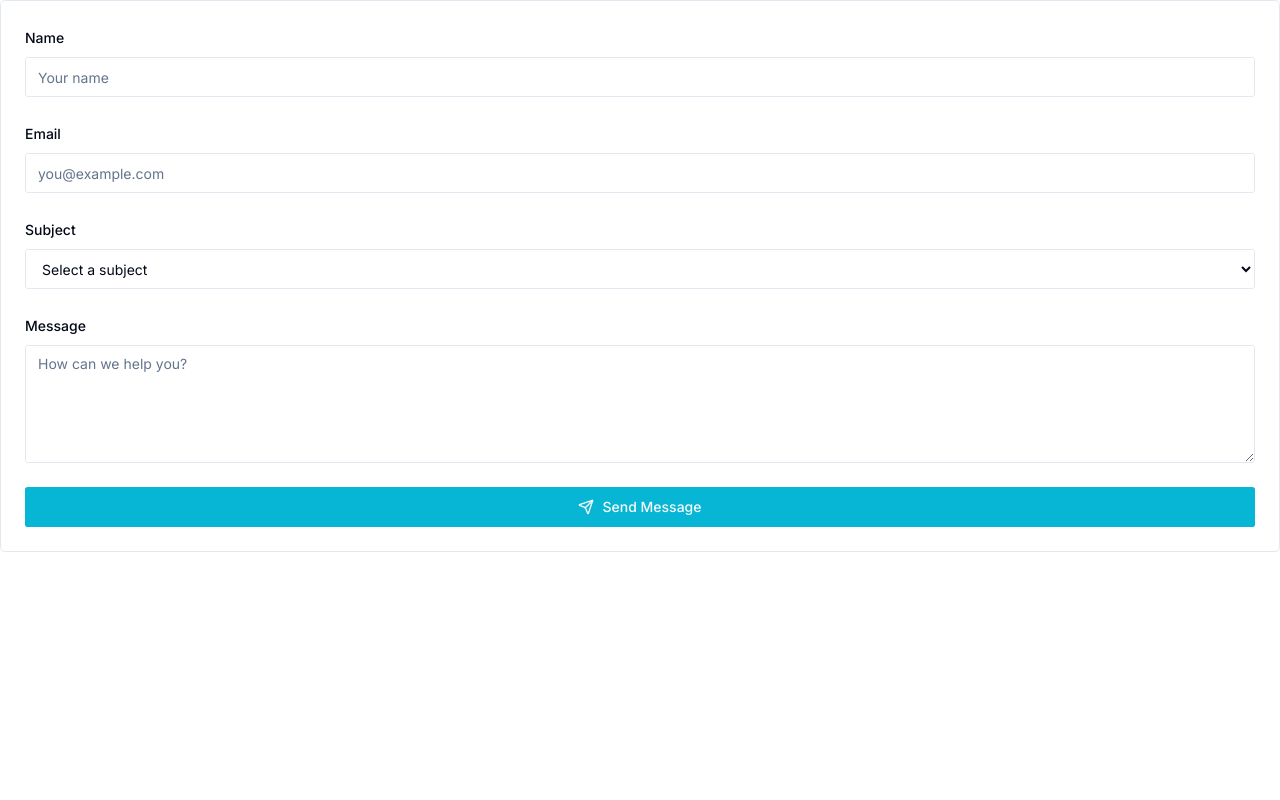
it: ContactForm › creates a support ticket instead of opening a mailto draft
Step 1. Type "Ava Customer" into the field labelled "Name" → [640, 77], box x1=25 y1=57 x2=1255 y2=97
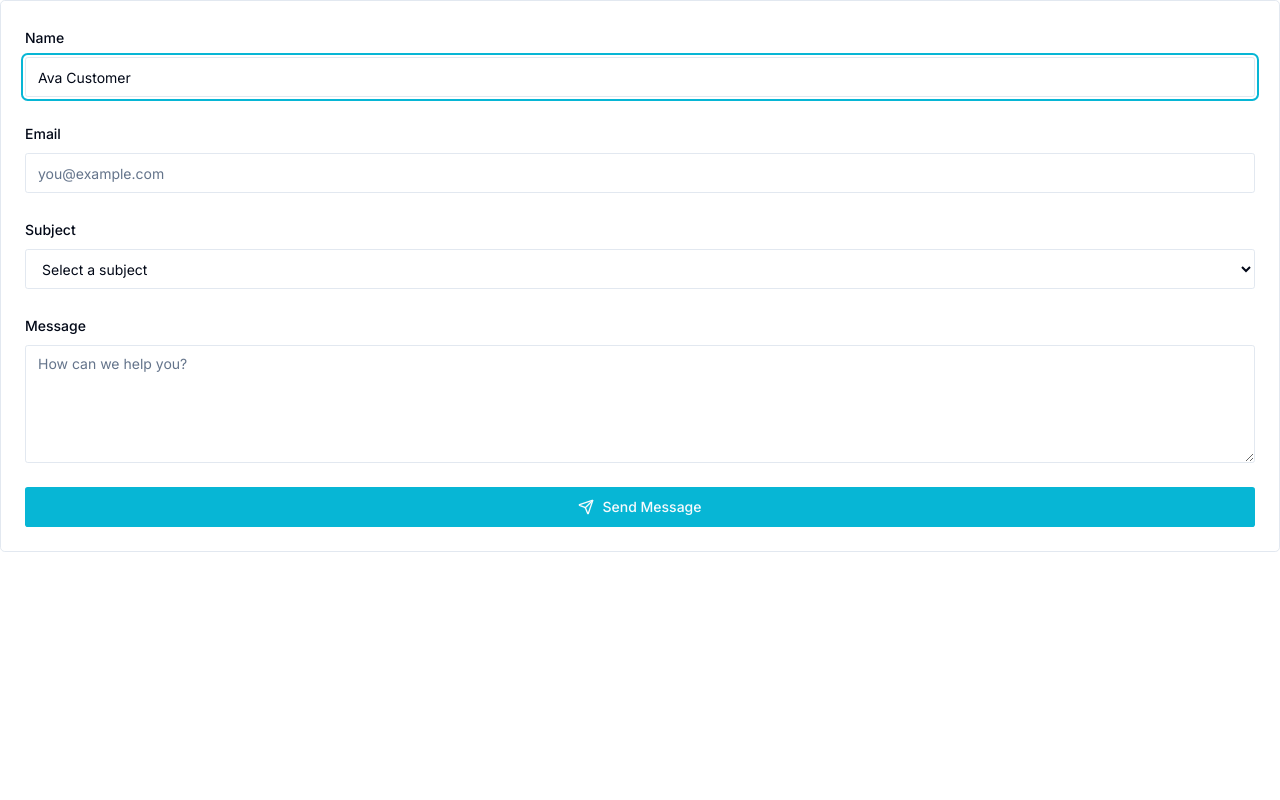
Step 2. Type "ava@example.com" into the field labelled "Email" → [640, 173], box x1=25 y1=153 x2=1255 y2=193
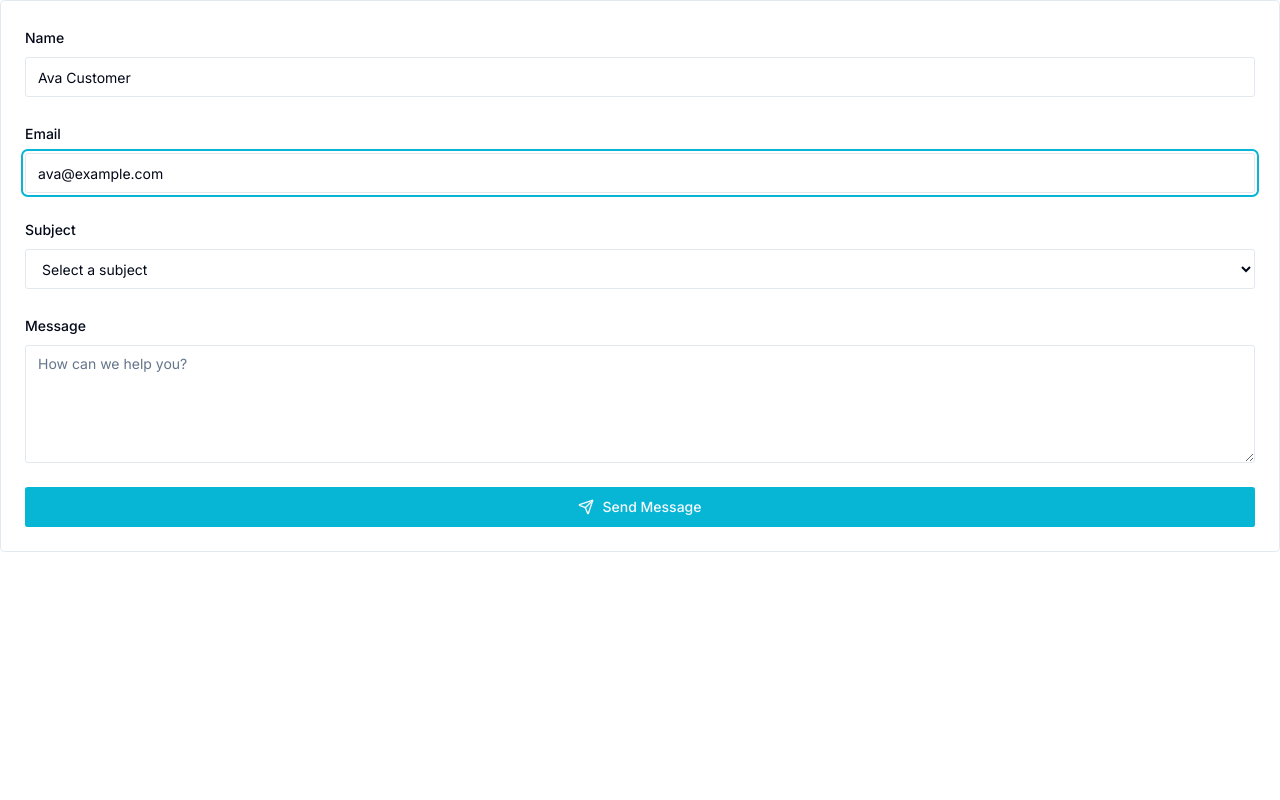
Step 3. Select "Order Status" in the dropdown labelled "Subject" → [640, 269], box x1=25 y1=249 x2=1255 y2=289
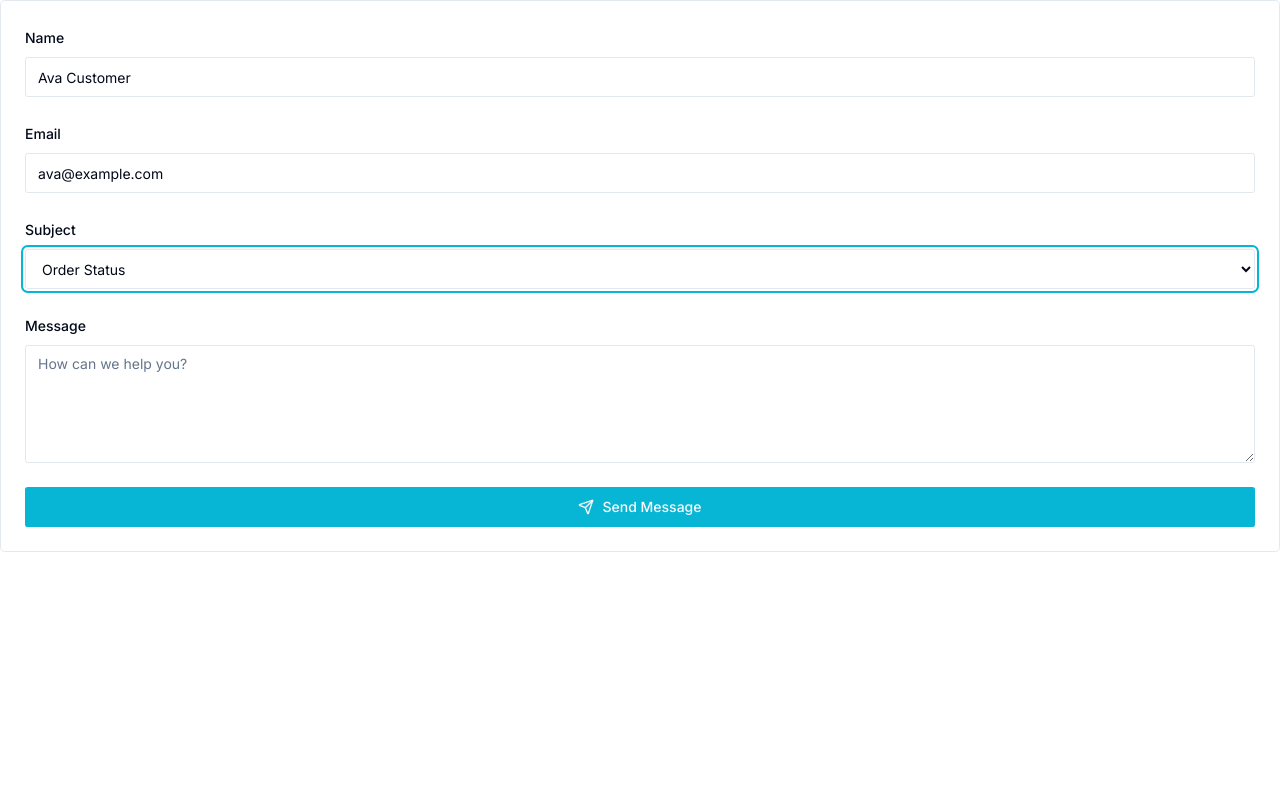
Step 4. Type "Can you check this order?" into the text box labelled "Message" → [640, 404], box x1=25 y1=345 x2=1255 y2=463
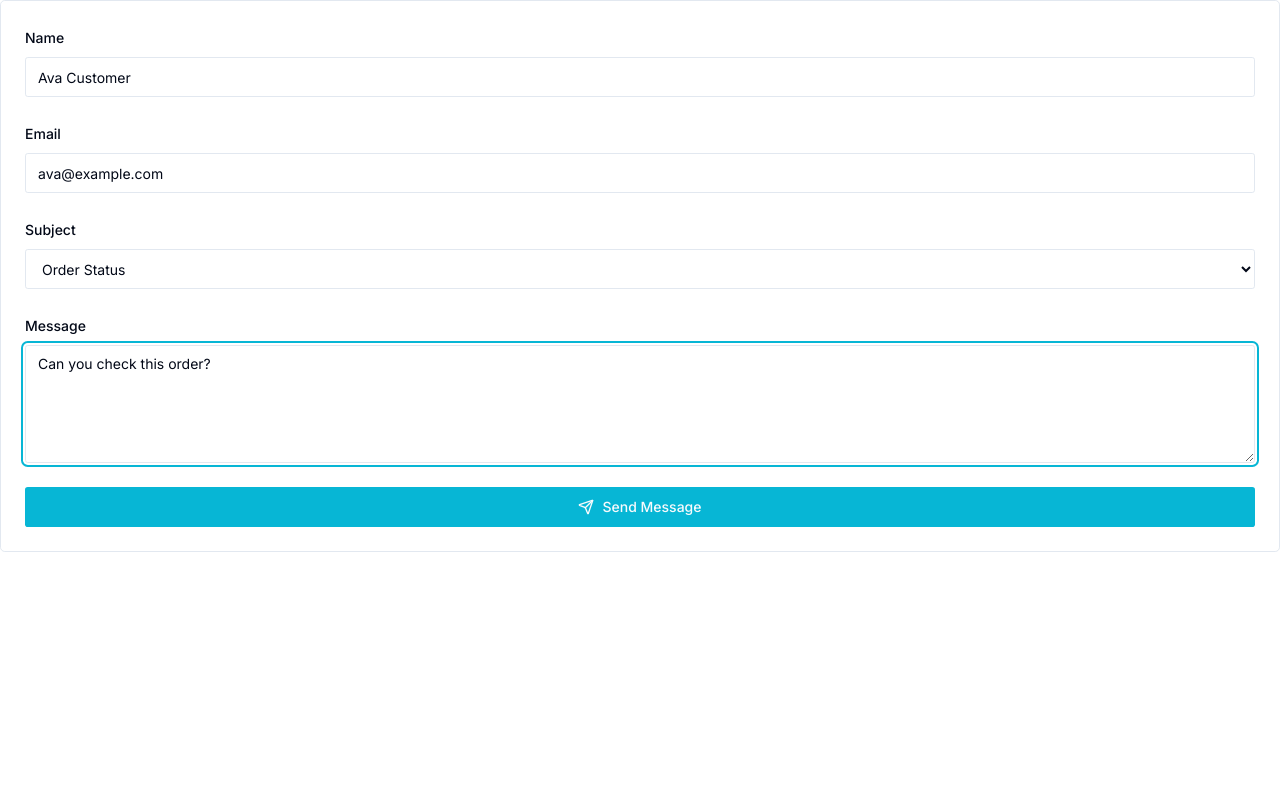
Step 5. Click the button "Send Message" → [640, 507], box x1=25 y1=487 x2=1255 y2=527
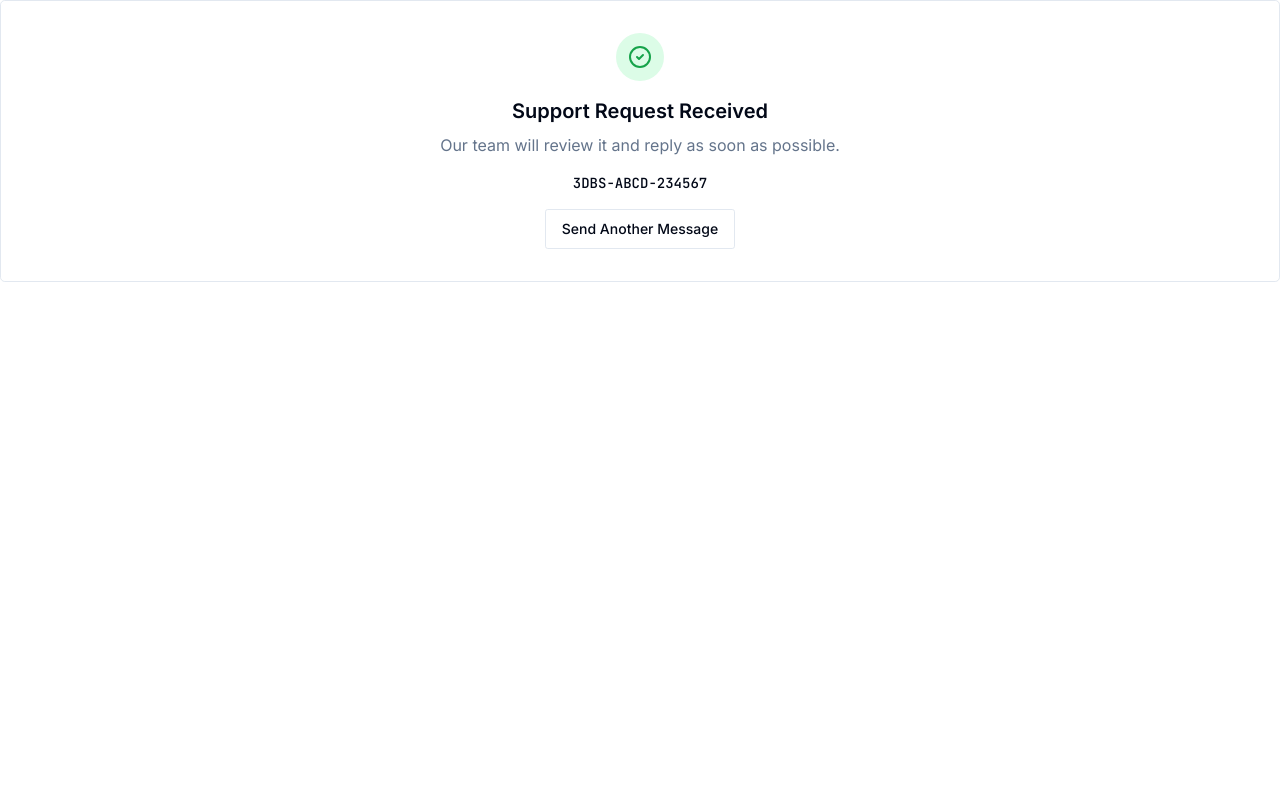
Result: the heading "Support Request Received" is shown at x1=512 y1=99 x2=768 y2=123
Result: the text "3DBS-ABCD-234567" is shown at x1=573 y1=174 x2=707 y2=192
